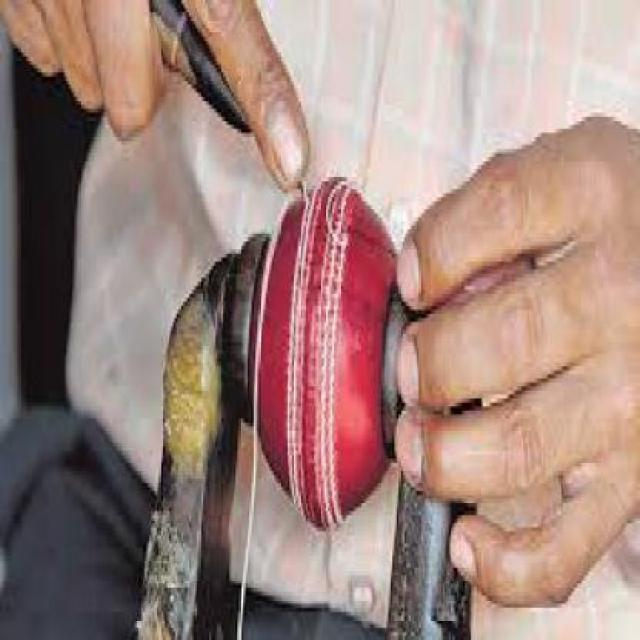ball: (205, 147, 430, 540)
